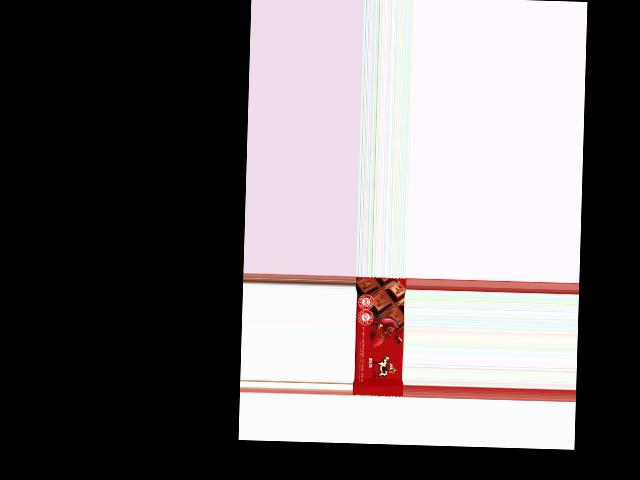chocolate: (351, 277, 405, 397)
